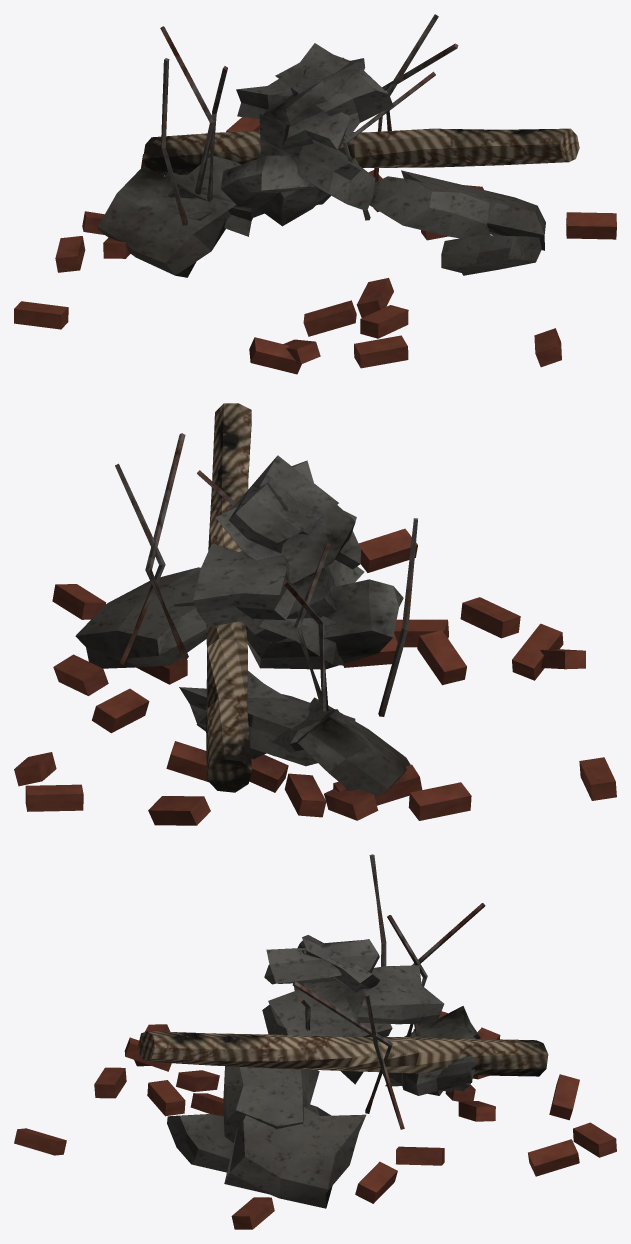
Rendered from rubble_pile.glb.
3 renders of one model, top to bottom at view 1: azimuth 30°, elevation 25°; view 2: azimuth 150°, elevation 25°; view 3: azimuth 270°, elevation 25°, orthographic. The views are drawn at different scales.
Parts seen in each view (by area): view 1: rubble_pile; view 2: rubble_pile; view 3: rubble_pile.
Part boxes in pixels (x1,y1,x2,y2): rubble_pile: [14, 14, 616, 374]; rubble_pile: [14, 403, 616, 825]; rubble_pile: [14, 854, 616, 1229].
Bounding box in the file's own units: 2.81 × 1.13 × 2.86.
Materials: 1 (1 with a texture image).
